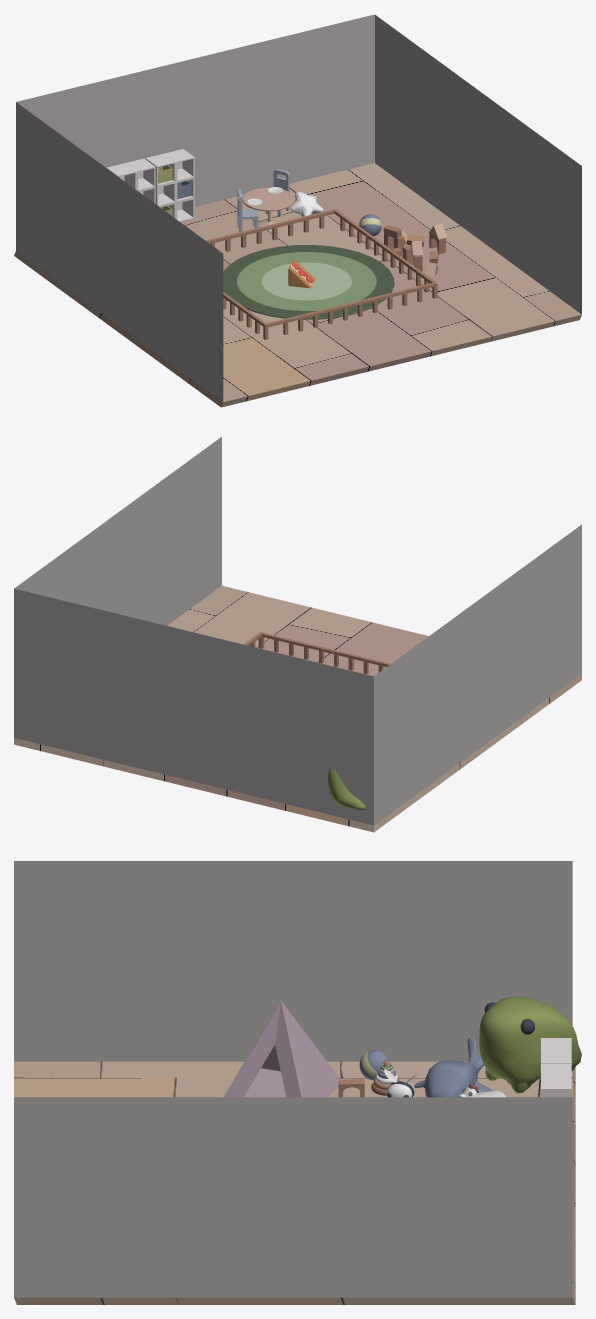
The model's file is LevelOne.fbx.
3 views of the same model, one above another, from view 1: azimuth 30°, elevation 25°; view 2: azimuth 150°, elevation 25°; view 3: azimuth 270°, elevation 25° (orthographic). The views are drawn at different scales.
Visible parts, largest first — view 1: Wall, Floor, Circle.001, Fence.003, BoxShelf, BoxShelf.001, Circle, StarPillow, StrawberySandwhich; view 2: Wall, Floor, Fence.003, Cube.016; view 3: Wall, Floor, Cube.014, Cube.016, WhalePlushie, BoxShelf, BoxShelf.001, Ball.001.
Part boxes in pixels (x1=…): Wall: x1=16, y1=14, x2=581, y2=401; Floor: x1=14, y1=163, x2=581, y2=407; Circle.001: x1=223, y1=245, x2=394, y2=319; Fence.003: x1=206, y1=209, x2=437, y2=339; BoxShelf: x1=145, y1=149, x2=194, y2=221; BoxShelf.001: x1=106, y1=158, x2=155, y2=203; Circle: x1=242, y1=187, x2=294, y2=226; StarPillow: x1=291, y1=191, x2=323, y2=216; StrawberySandwhich: x1=288, y1=259, x2=316, y2=288; Wall: x1=14, y1=436, x2=581, y2=825; Floor: x1=14, y1=585, x2=581, y2=832; Fence.003: x1=243, y1=632, x2=390, y2=674; Cube.016: x1=328, y1=769, x2=365, y2=810; Wall: x1=14, y1=861, x2=572, y2=1297; Floor: x1=14, y1=1061, x2=575, y2=1304; Cube.014: x1=224, y1=1001, x2=340, y2=1097; Cube.016: x1=479, y1=996, x2=581, y2=1093; WhalePlushie: x1=414, y1=1038, x2=492, y2=1097; BoxShelf: x1=540, y1=1064, x2=571, y2=1097; BoxShelf.001: x1=540, y1=1038, x2=571, y2=1063; Ball.001: x1=359, y1=1049, x2=389, y2=1080.
Size of what is drawn, in the model's own units: 3621 by 1486 by 3672.
